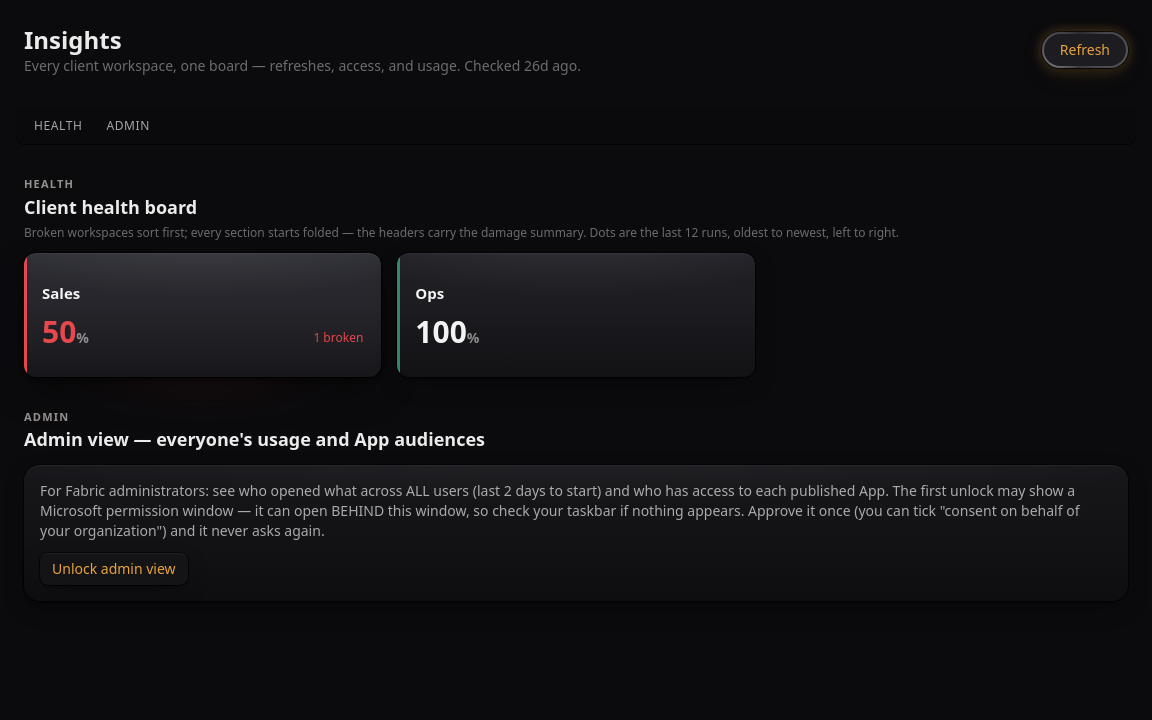
Test: InsightsPage — admin tier (owner-only) › renders activity and App audiences after a successful unlock
Click the button "Unlock admin view": [114, 569] box [40,553,188,585]
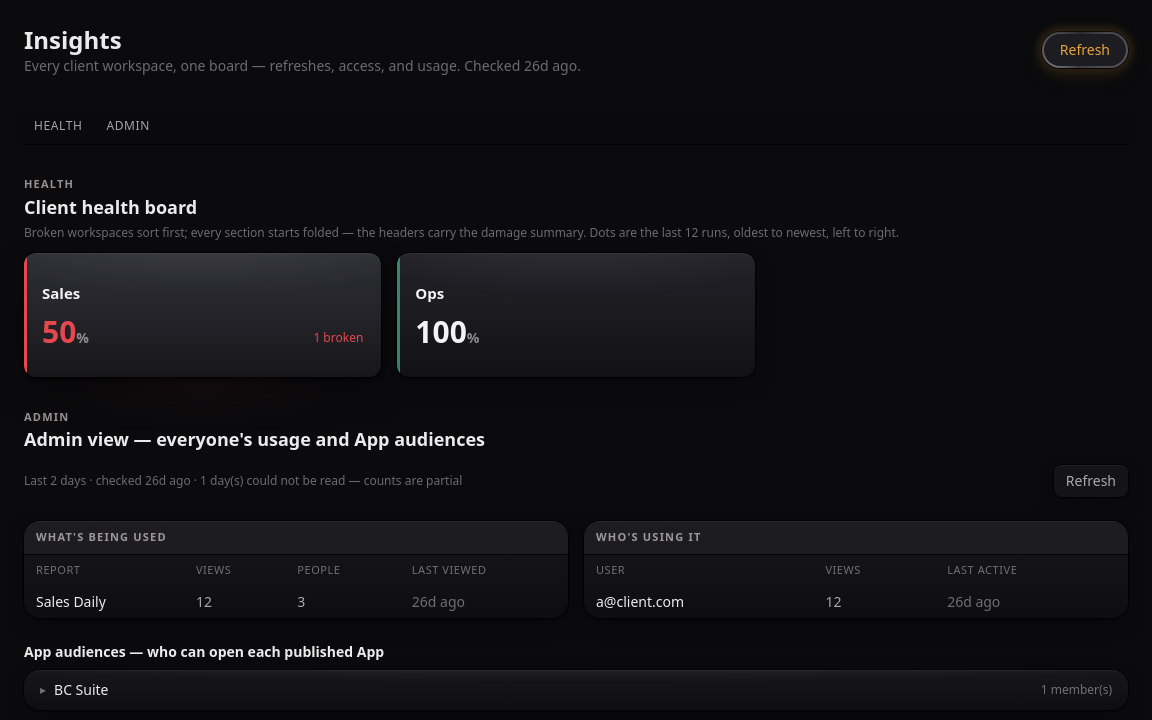
Check: the text "Sales Daily" is shown, box [24,586,184,618]
Check: the text "a@client.com" is shown, box [584,586,813,618]
Check: the text "1 day(s) could not be read" is shown, box [191,472,462,489]
Click the button "▸ BC Suite 1 member(s)": [81, 689] box [24,670,1128,710]
(page scrolled)
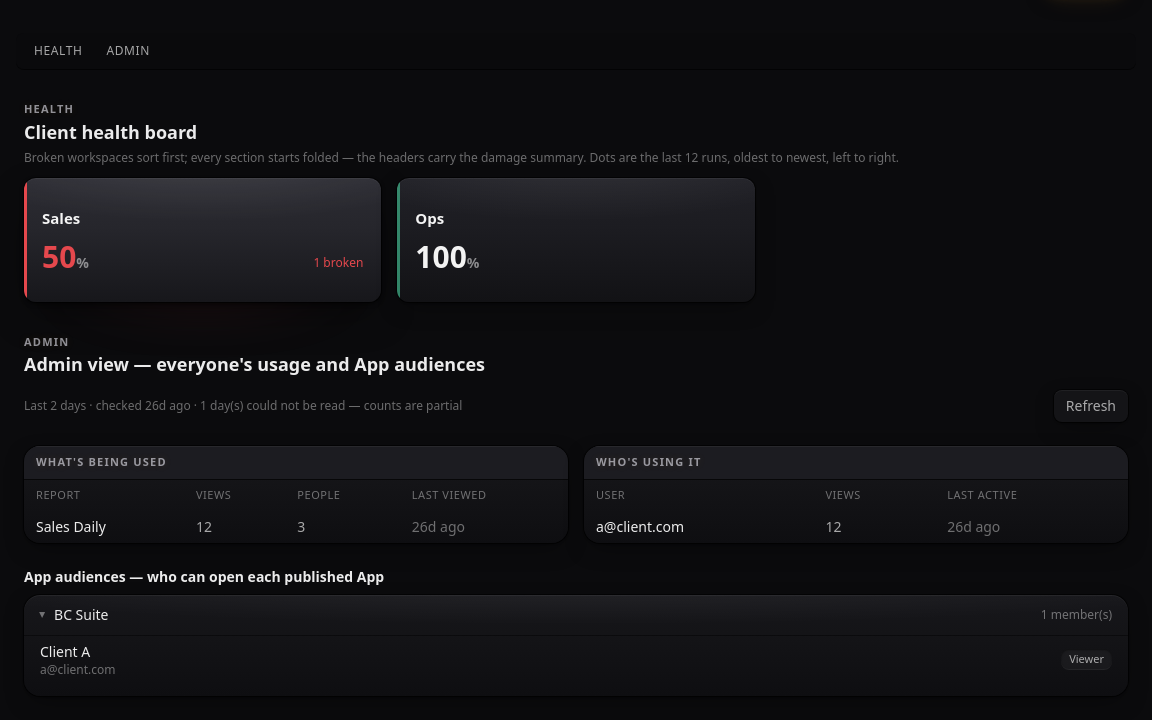
Check: the text "Client A" is shown, box [40,642,90,660]
Check: the text "Viewer" is shown, box [1061,649,1112,670]
